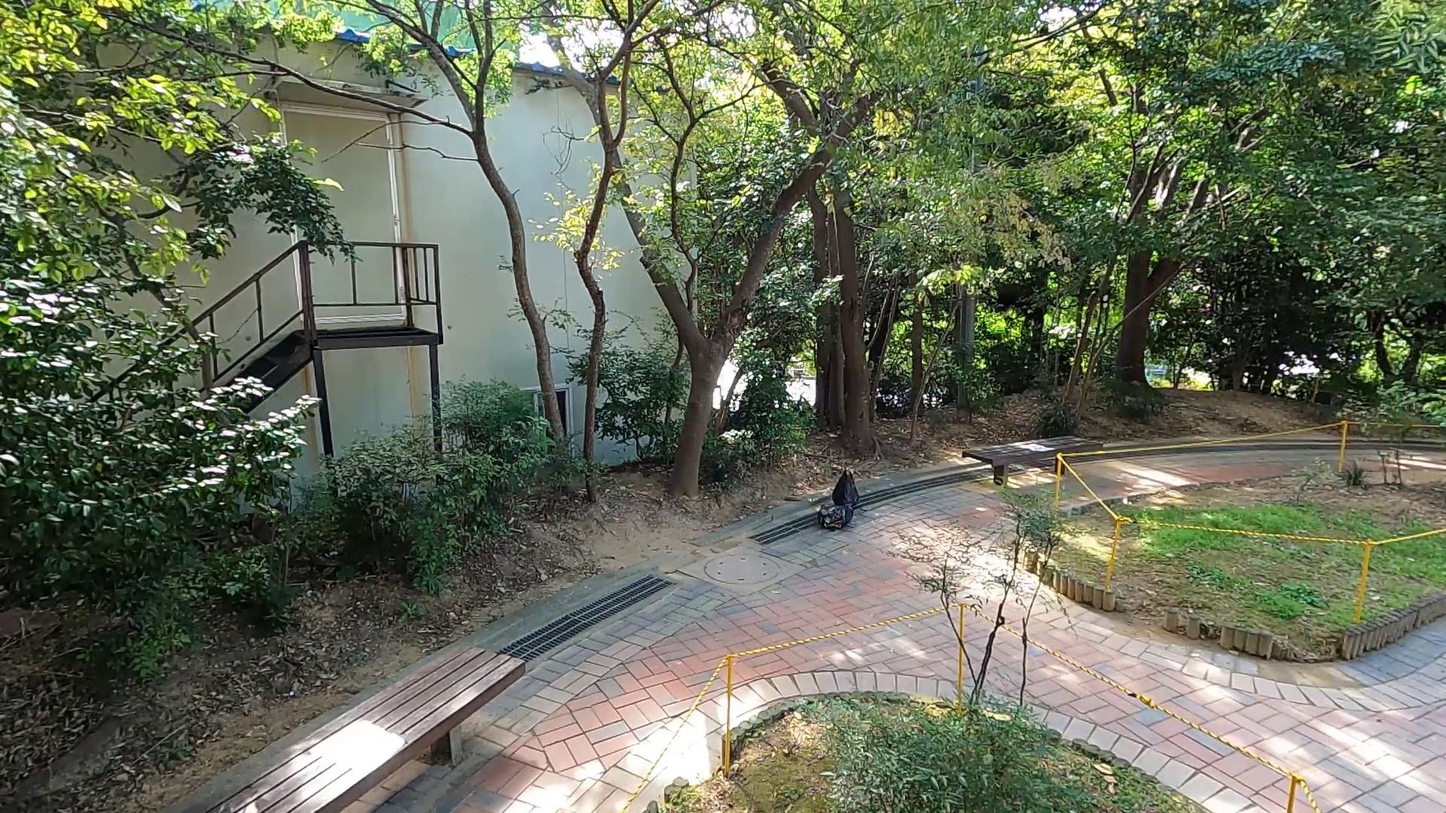trash: (826, 463, 865, 514), (813, 504, 857, 530)
